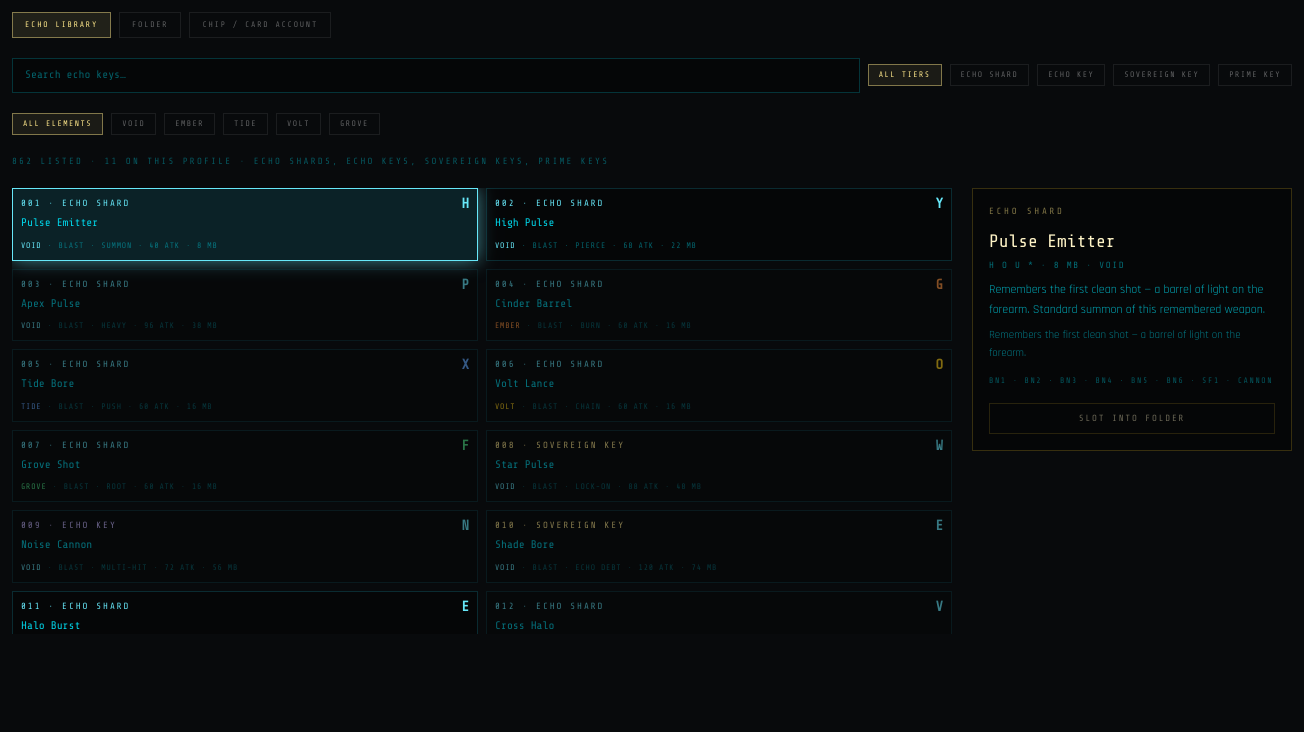
Test: EchoKeyVault › opens the 30-slot folder with Regular and Star-Force pins
The width and height of the screenshot is (1304, 732).
Click the button "Folder": click(150, 25) [119, 12, 182, 38]
(page scrolled)
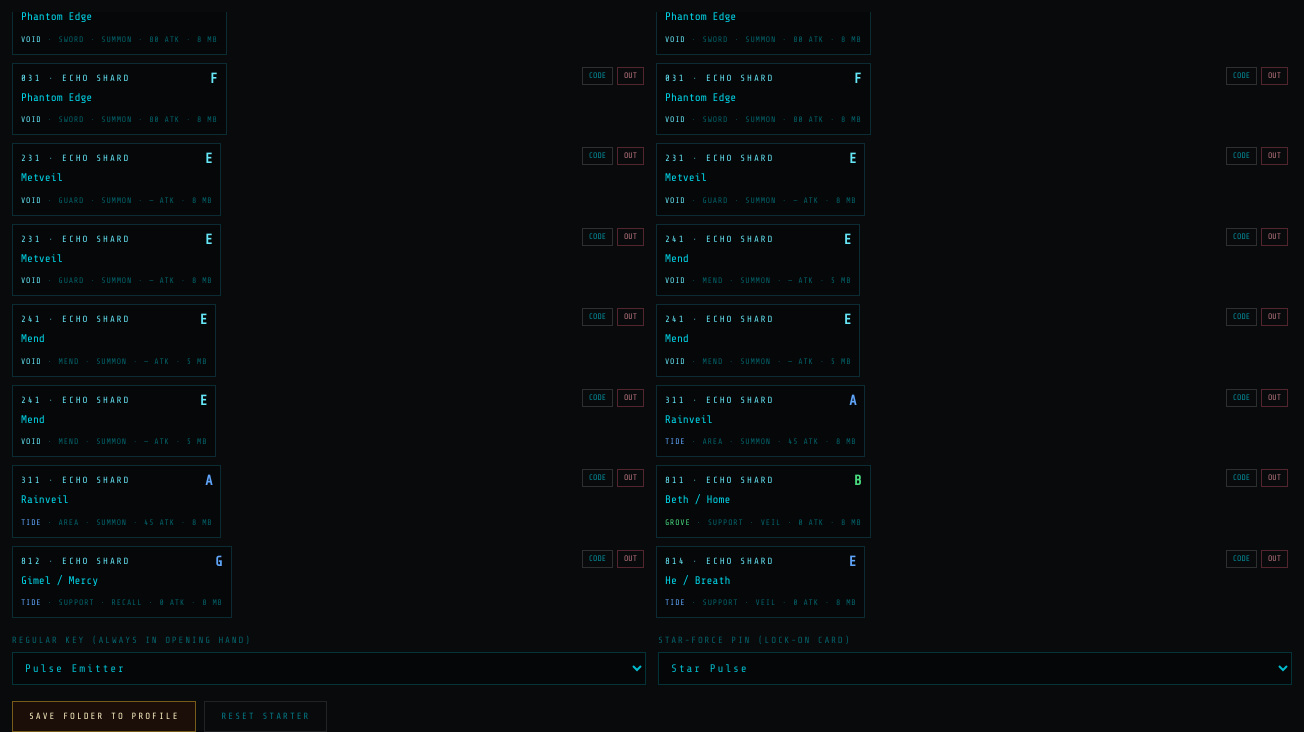
Now the button "Save folder to profile" is shown, box [12, 700, 196, 731]
Now the text "Regular key (always in opening hand)" is shown, box [12, 634, 646, 684]
Now the text "Star-Force pin (lock-on card)" is shown, box [658, 634, 1292, 684]
